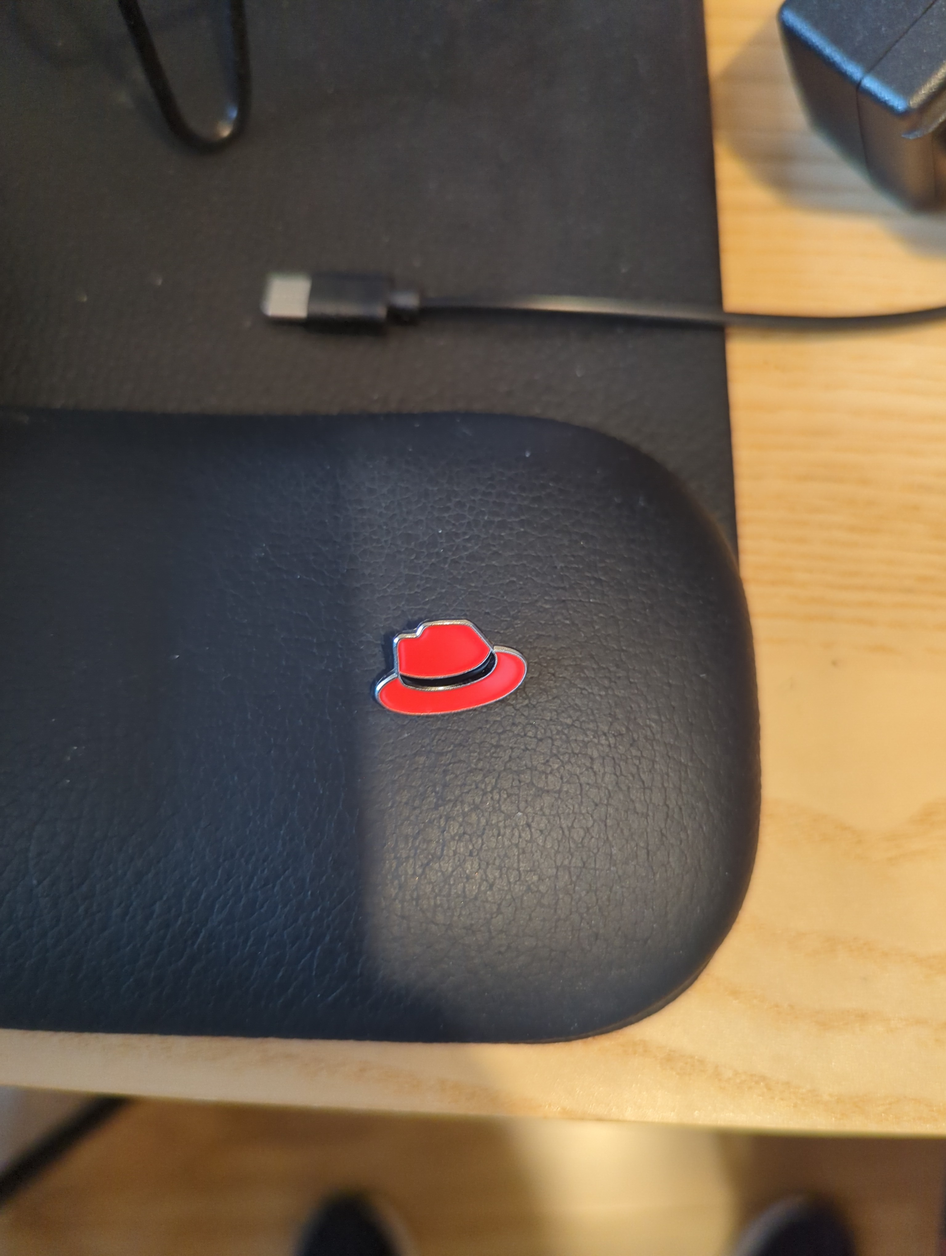Red-Hat: (318, 560, 608, 779)
